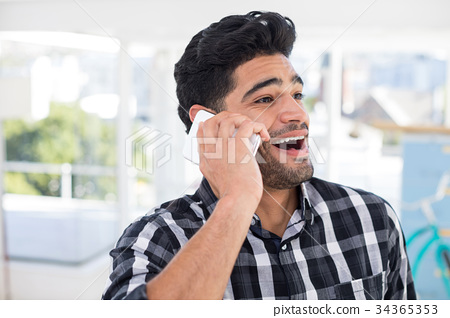phone: (179, 109, 261, 179)
talk: (184, 70, 310, 209)
